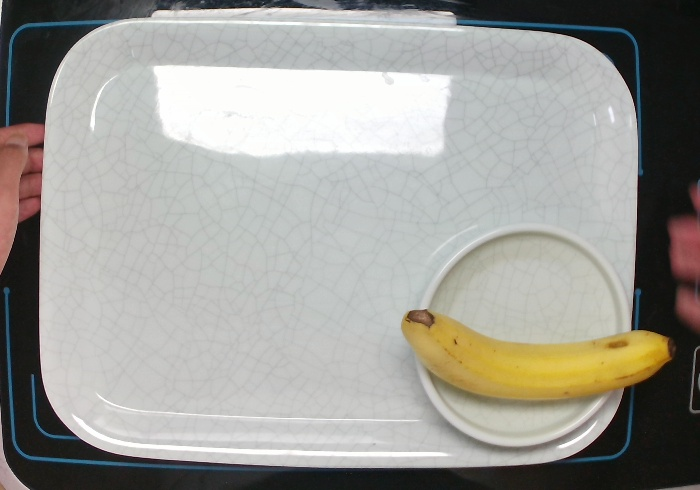JYsf-Xiao_Yuan_Pan: (412, 221, 633, 448)
